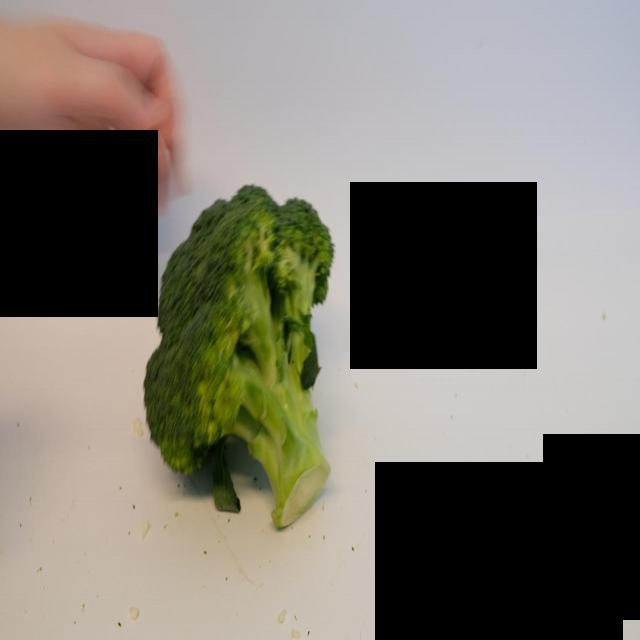broccoli: (144, 182, 336, 530)
